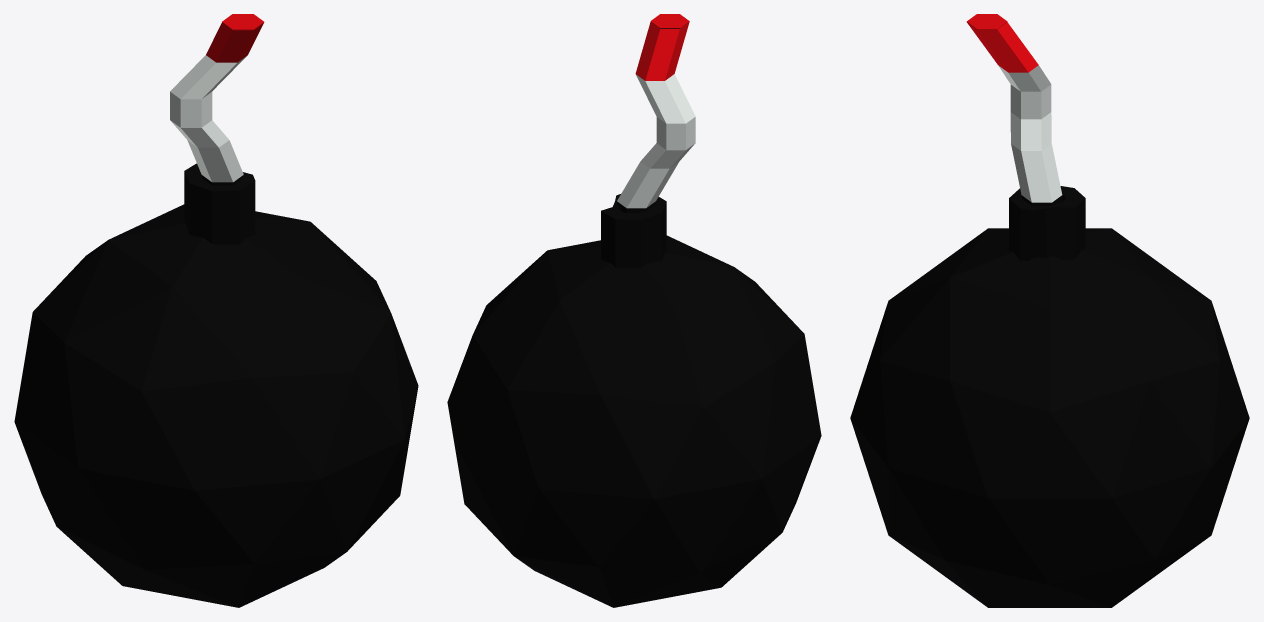
Rendered from fbomb.fbx.
The picture shows the model from 3 angles, left to right: view 1: azimuth 30°, elevation 25°; view 2: azimuth 150°, elevation 25°; view 3: azimuth 270°, elevation 25°; orthographic projection. The views are drawn at different scales.
Visible parts, largest first — view 1: Cylinder; view 2: Cylinder; view 3: Cylinder.
Boxes of the visible parts, x1,y1,x2,y2 form: Cylinder: [14, 14, 418, 607]; Cylinder: [447, 14, 821, 607]; Cylinder: [850, 14, 1249, 607].
Bounding box in the file's own units: 842 × 1406 × 885.
